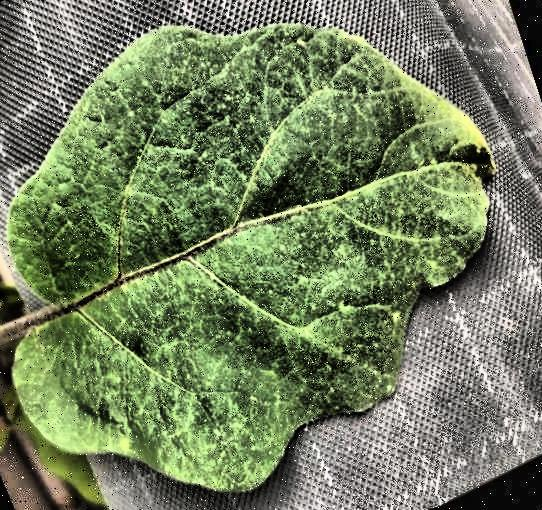Non-critical Stress: (0, 1, 542, 510)
